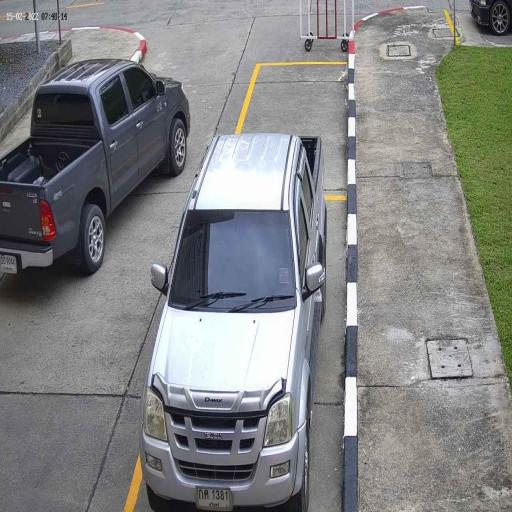car: (139, 131, 327, 512), (0, 57, 192, 275)
